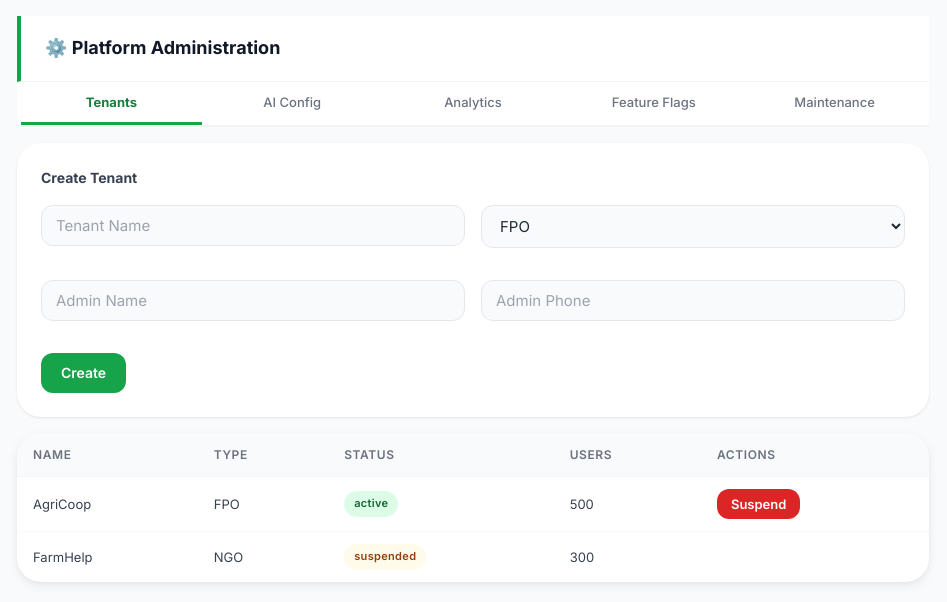
Scenario: PlatformAdminPage › displays AI configuration form
Click the button with test id "tab-config". click: x=292, y=103
box: [202,82,383,125]
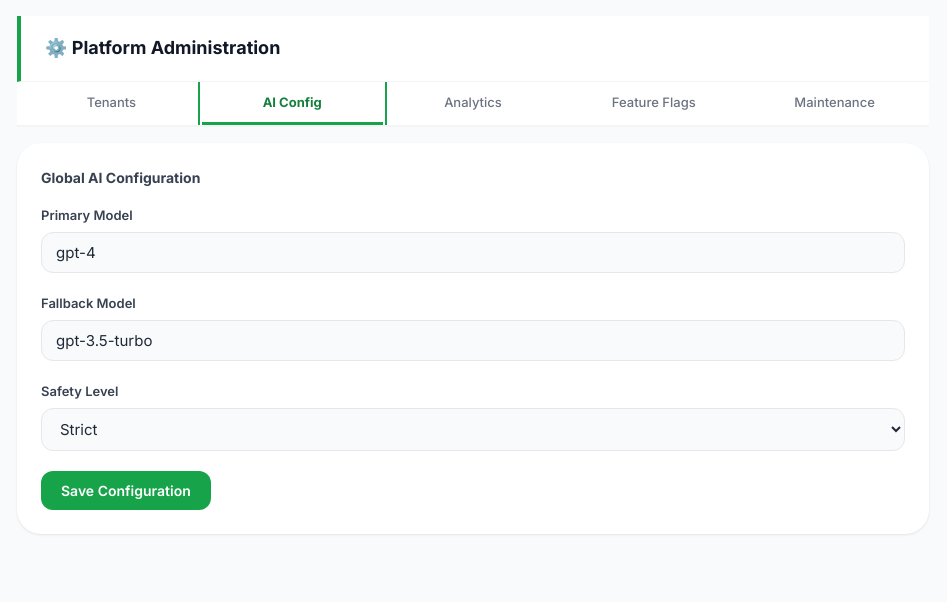
Expected: the element with test id "config-section" is shown
Expected: the field with test id "ai-primary-model" holds "gpt-4", [41,232,905,273]
Expected: the dropdown with test id "ai-safety-level" shows "Strict", [41,408,905,451]
